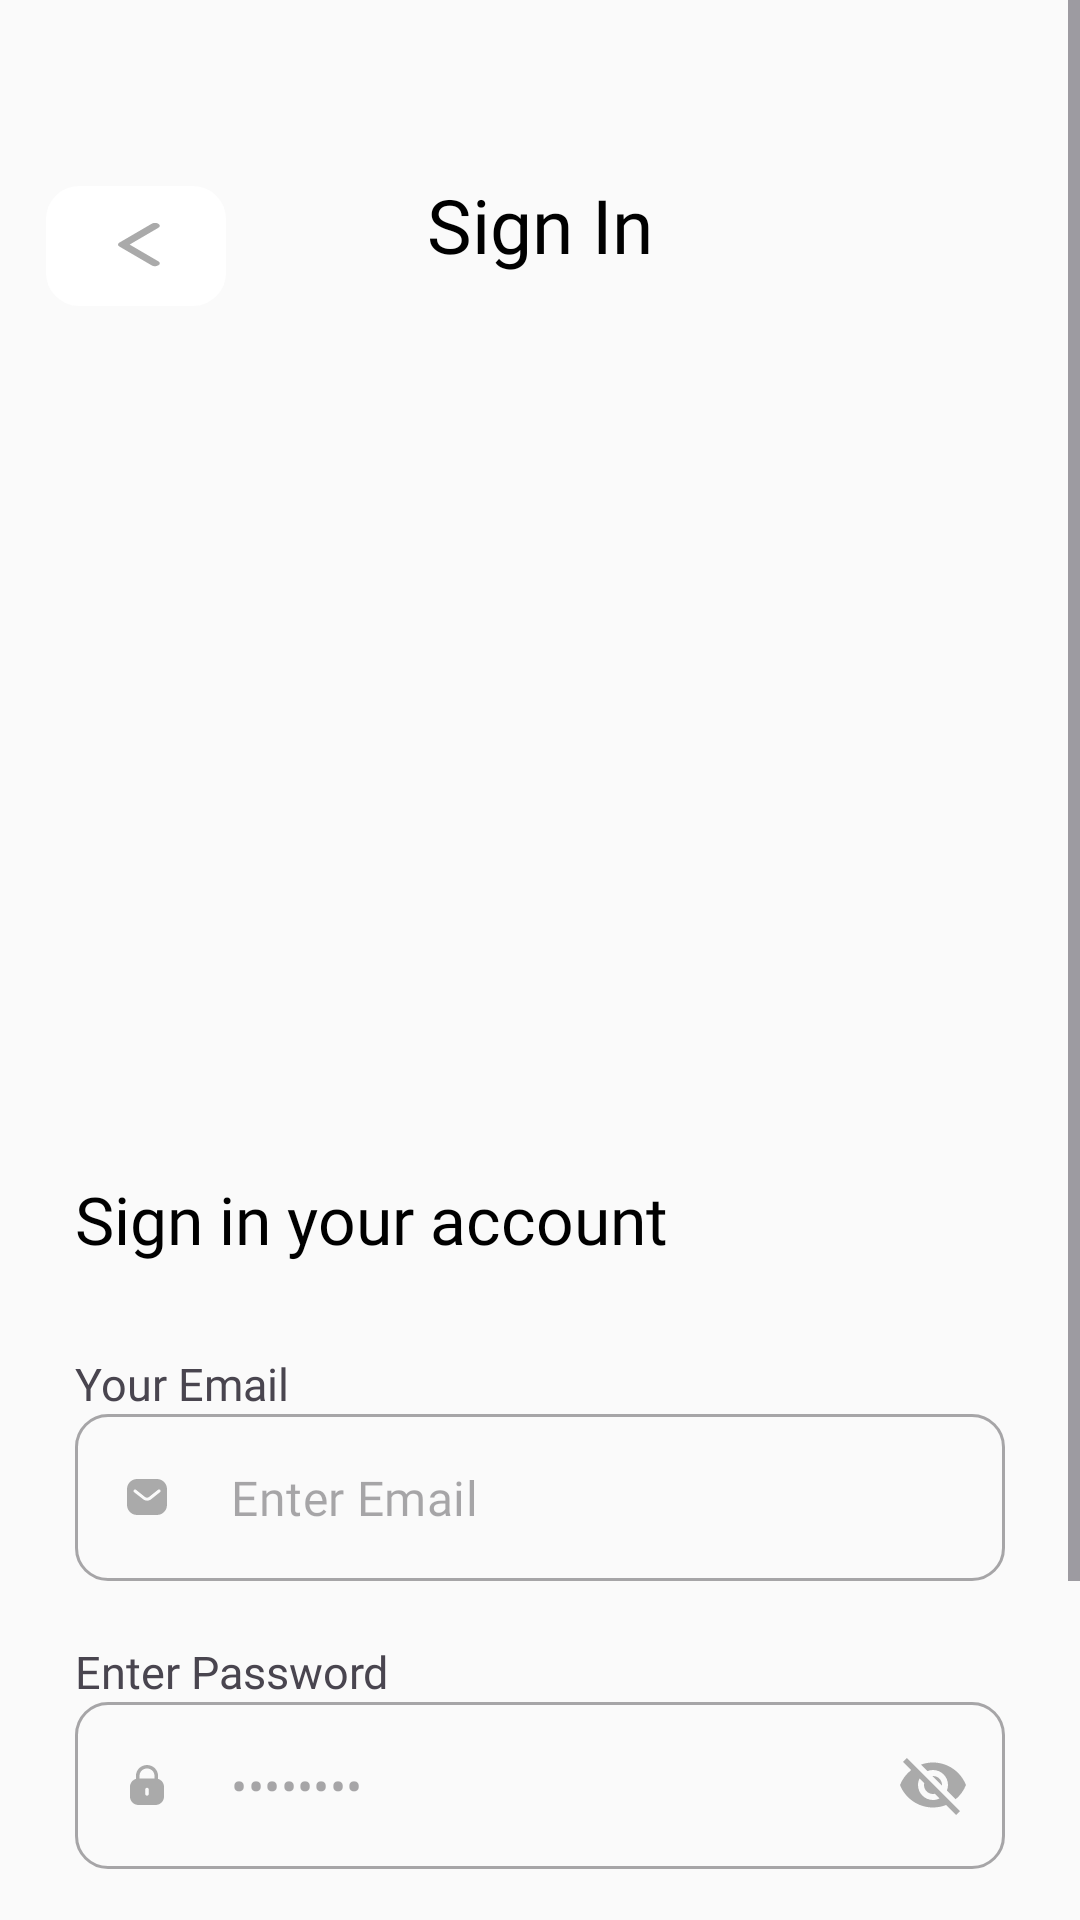

Icons on this 1080w x 1920h Android screen, each with its box as Rect(x1, y1, x2, y2):
back: Rect(118, 223, 160, 266)
